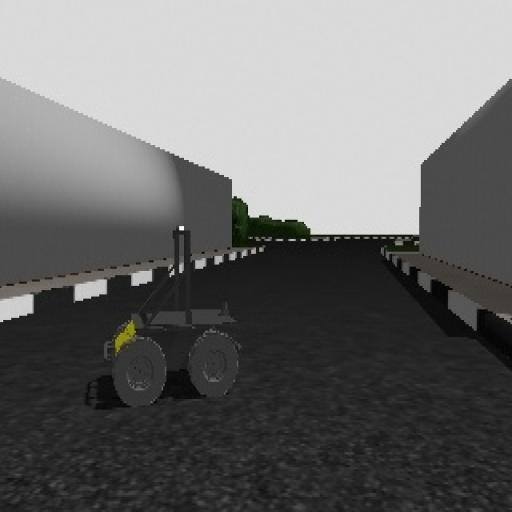huskya200: (82, 215, 250, 403)
